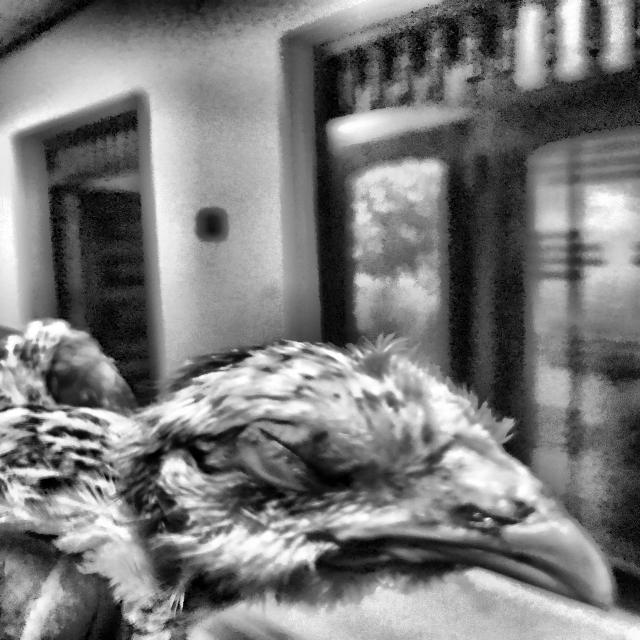Coryza: (148, 333, 640, 640)
